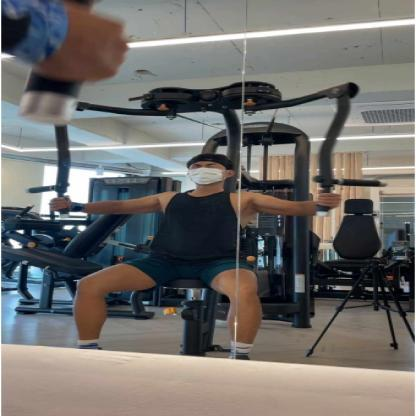chest fly machine: (19, 46, 402, 371)
